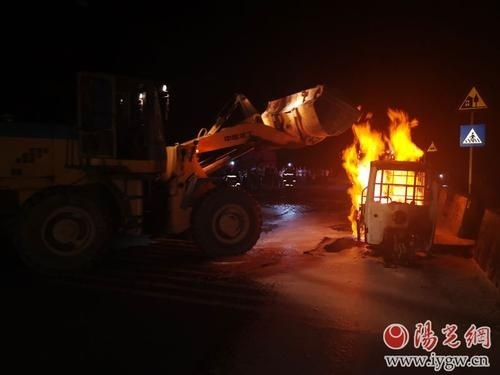fire: (343, 105, 426, 212)
